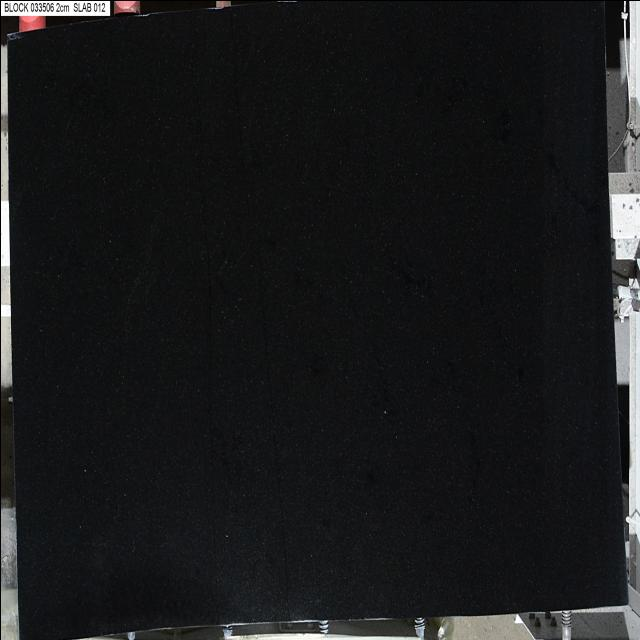chapa: (6, 2, 626, 638)
